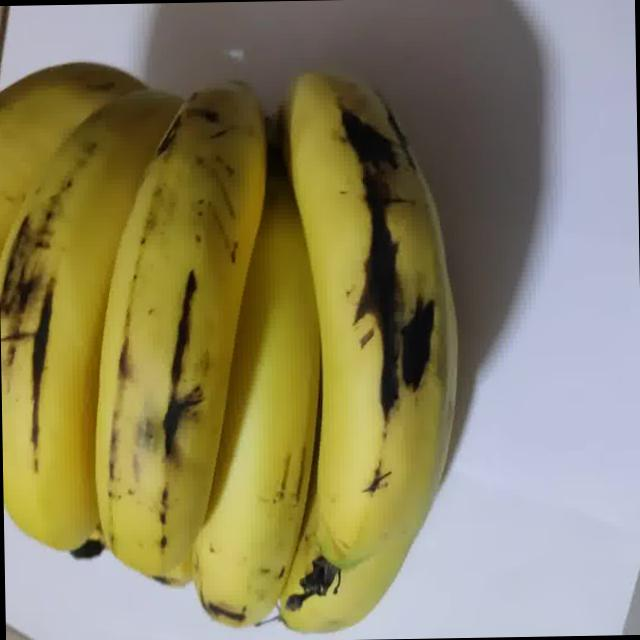banana_pacche: (0, 9, 528, 640)
